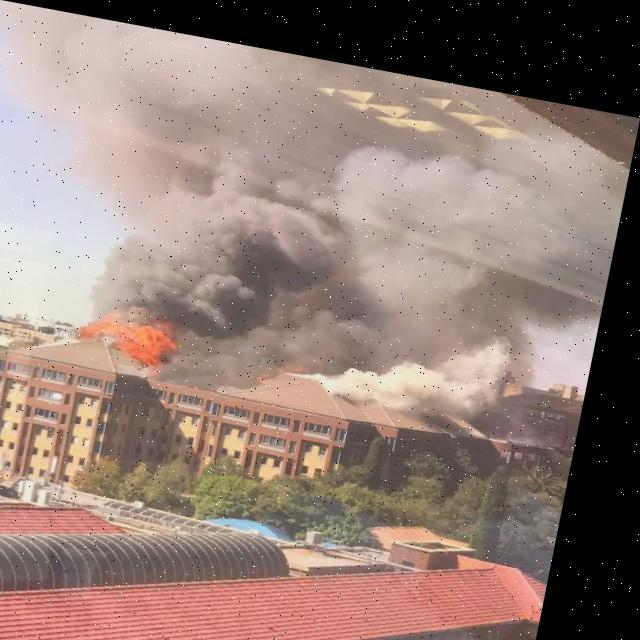Fire: (74, 296, 202, 375)
